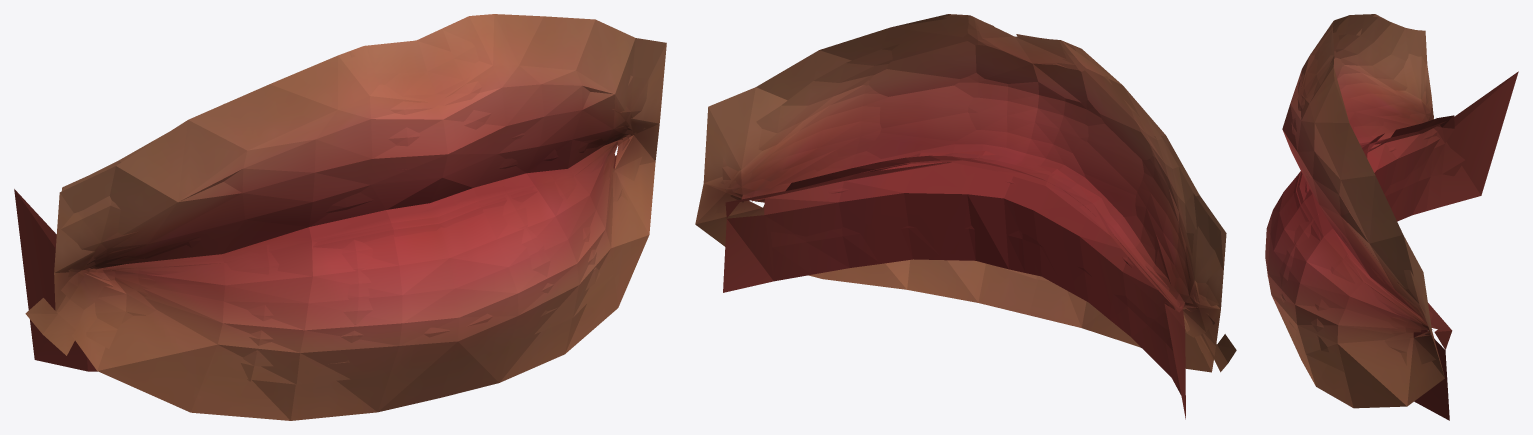
The model's file is mym1.obj.
3 views of the same model, side by side, from view 1: azimuth 30°, elevation 25°; view 2: azimuth 150°, elevation 25°; view 3: azimuth 270°, elevation 25° (orthographic). The views are drawn at different scales.
Visible parts, largest first — view 1: mym1_mym1_Texture4.001_face1_sk_face1_skin_med.jpg, mym1_mym1_Texture3.001_face1_sk_face1_skin_lo.jpg, mym1_mym1_Texture2.001_face1_sk_face1_skin_hi.jpg; view 2: mym1_mym1_Texture2.001_face1_sk_face1_skin_hi.jpg, mym1_mym1_Texture3.001_face1_sk_face1_skin_lo.jpg, mym1_mym1_Texture4.001_face1_sk_face1_skin_med.jpg; view 3: mym1_mym1_Texture4.001_face1_sk_face1_skin_med.jpg, mym1_mym1_Texture2.001_face1_sk_face1_skin_hi.jpg, mym1_mym1_Texture3.001_face1_sk_face1_skin_lo.jpg.
Boxes of the visible parts, box(x1,y1,x2,y2) form: mym1_mym1_Texture4.001_face1_sk_face1_skin_med.jpg: box(14, 14, 666, 384); mym1_mym1_Texture3.001_face1_sk_face1_skin_lo.jpg: box(23, 16, 659, 420); mym1_mym1_Texture2.001_face1_sk_face1_skin_hi.jpg: box(25, 16, 648, 381); mym1_mym1_Texture2.001_face1_sk_face1_skin_hi.jpg: box(720, 15, 1236, 387); mym1_mym1_Texture3.001_face1_sk_face1_skin_lo.jpg: box(695, 15, 1226, 419); mym1_mym1_Texture4.001_face1_sk_face1_skin_med.jpg: box(703, 14, 1226, 394); mym1_mym1_Texture4.001_face1_sk_face1_skin_med.jpg: box(1265, 14, 1503, 420); mym1_mym1_Texture2.001_face1_sk_face1_skin_hi.jpg: box(1267, 15, 1465, 365); mym1_mym1_Texture3.001_face1_sk_face1_skin_lo.jpg: box(1271, 14, 1518, 408).
Bounding box in the file's own units: 2.5 × 1.34 × 1.07.
